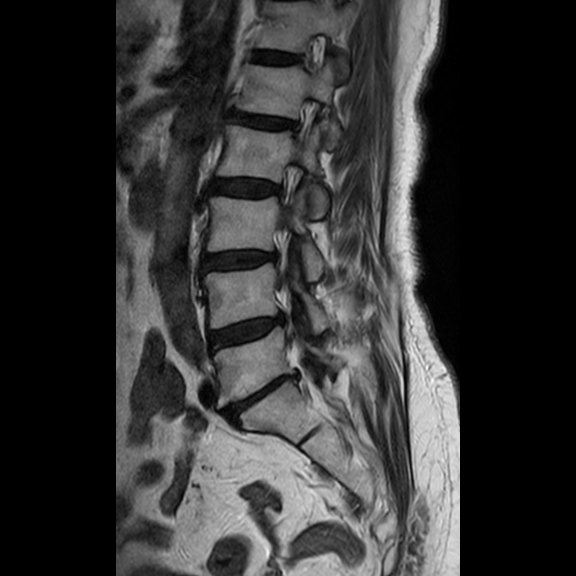LFS0: (266, 153, 311, 210), (284, 88, 324, 147)
